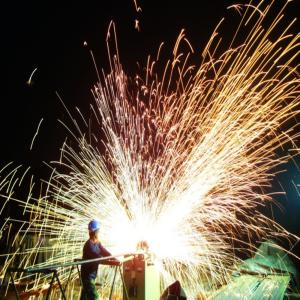blue: (88, 220, 102, 243)
